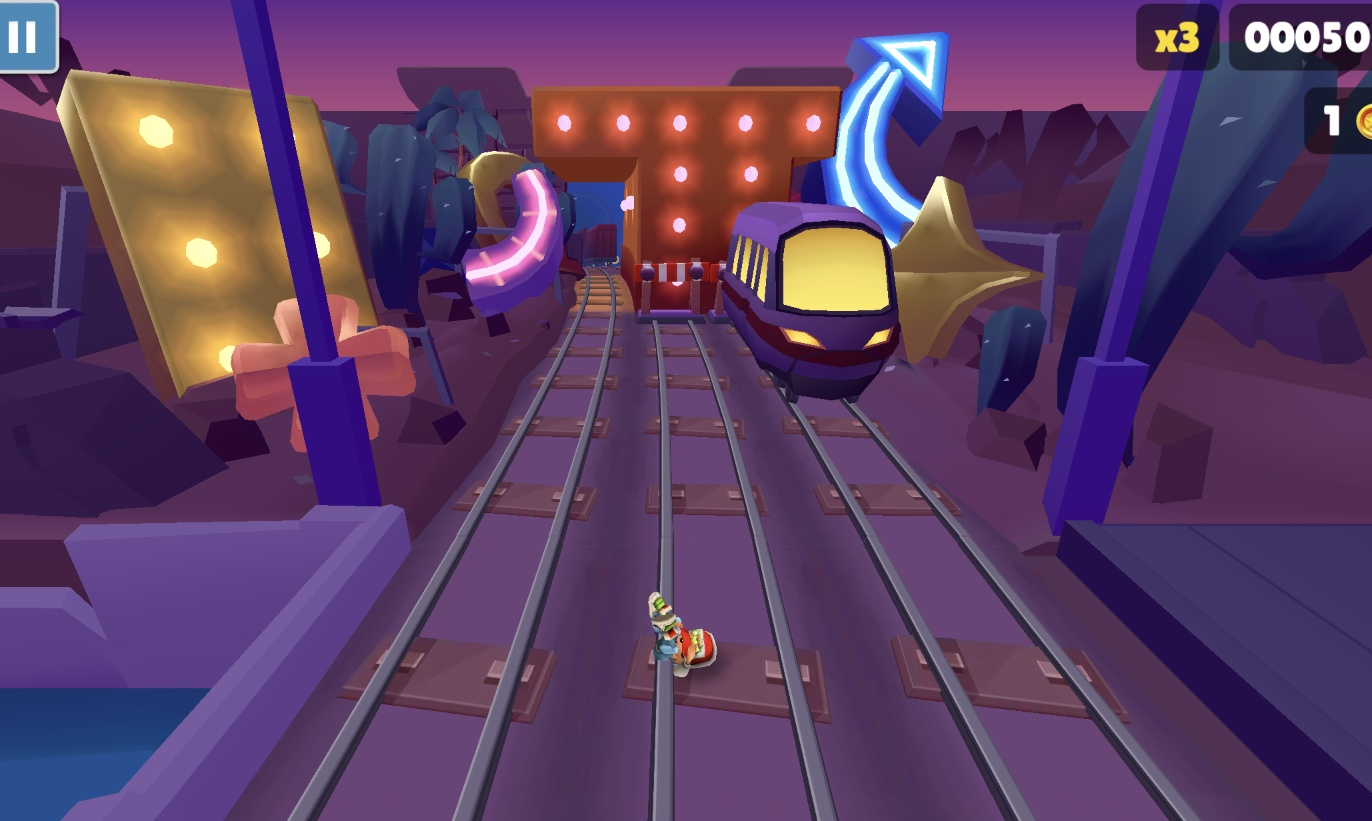ground_barrier: (634, 260, 710, 319), (703, 258, 729, 317)
pillar: (623, 155, 792, 313)
train: (724, 203, 902, 401), (576, 223, 621, 275)
